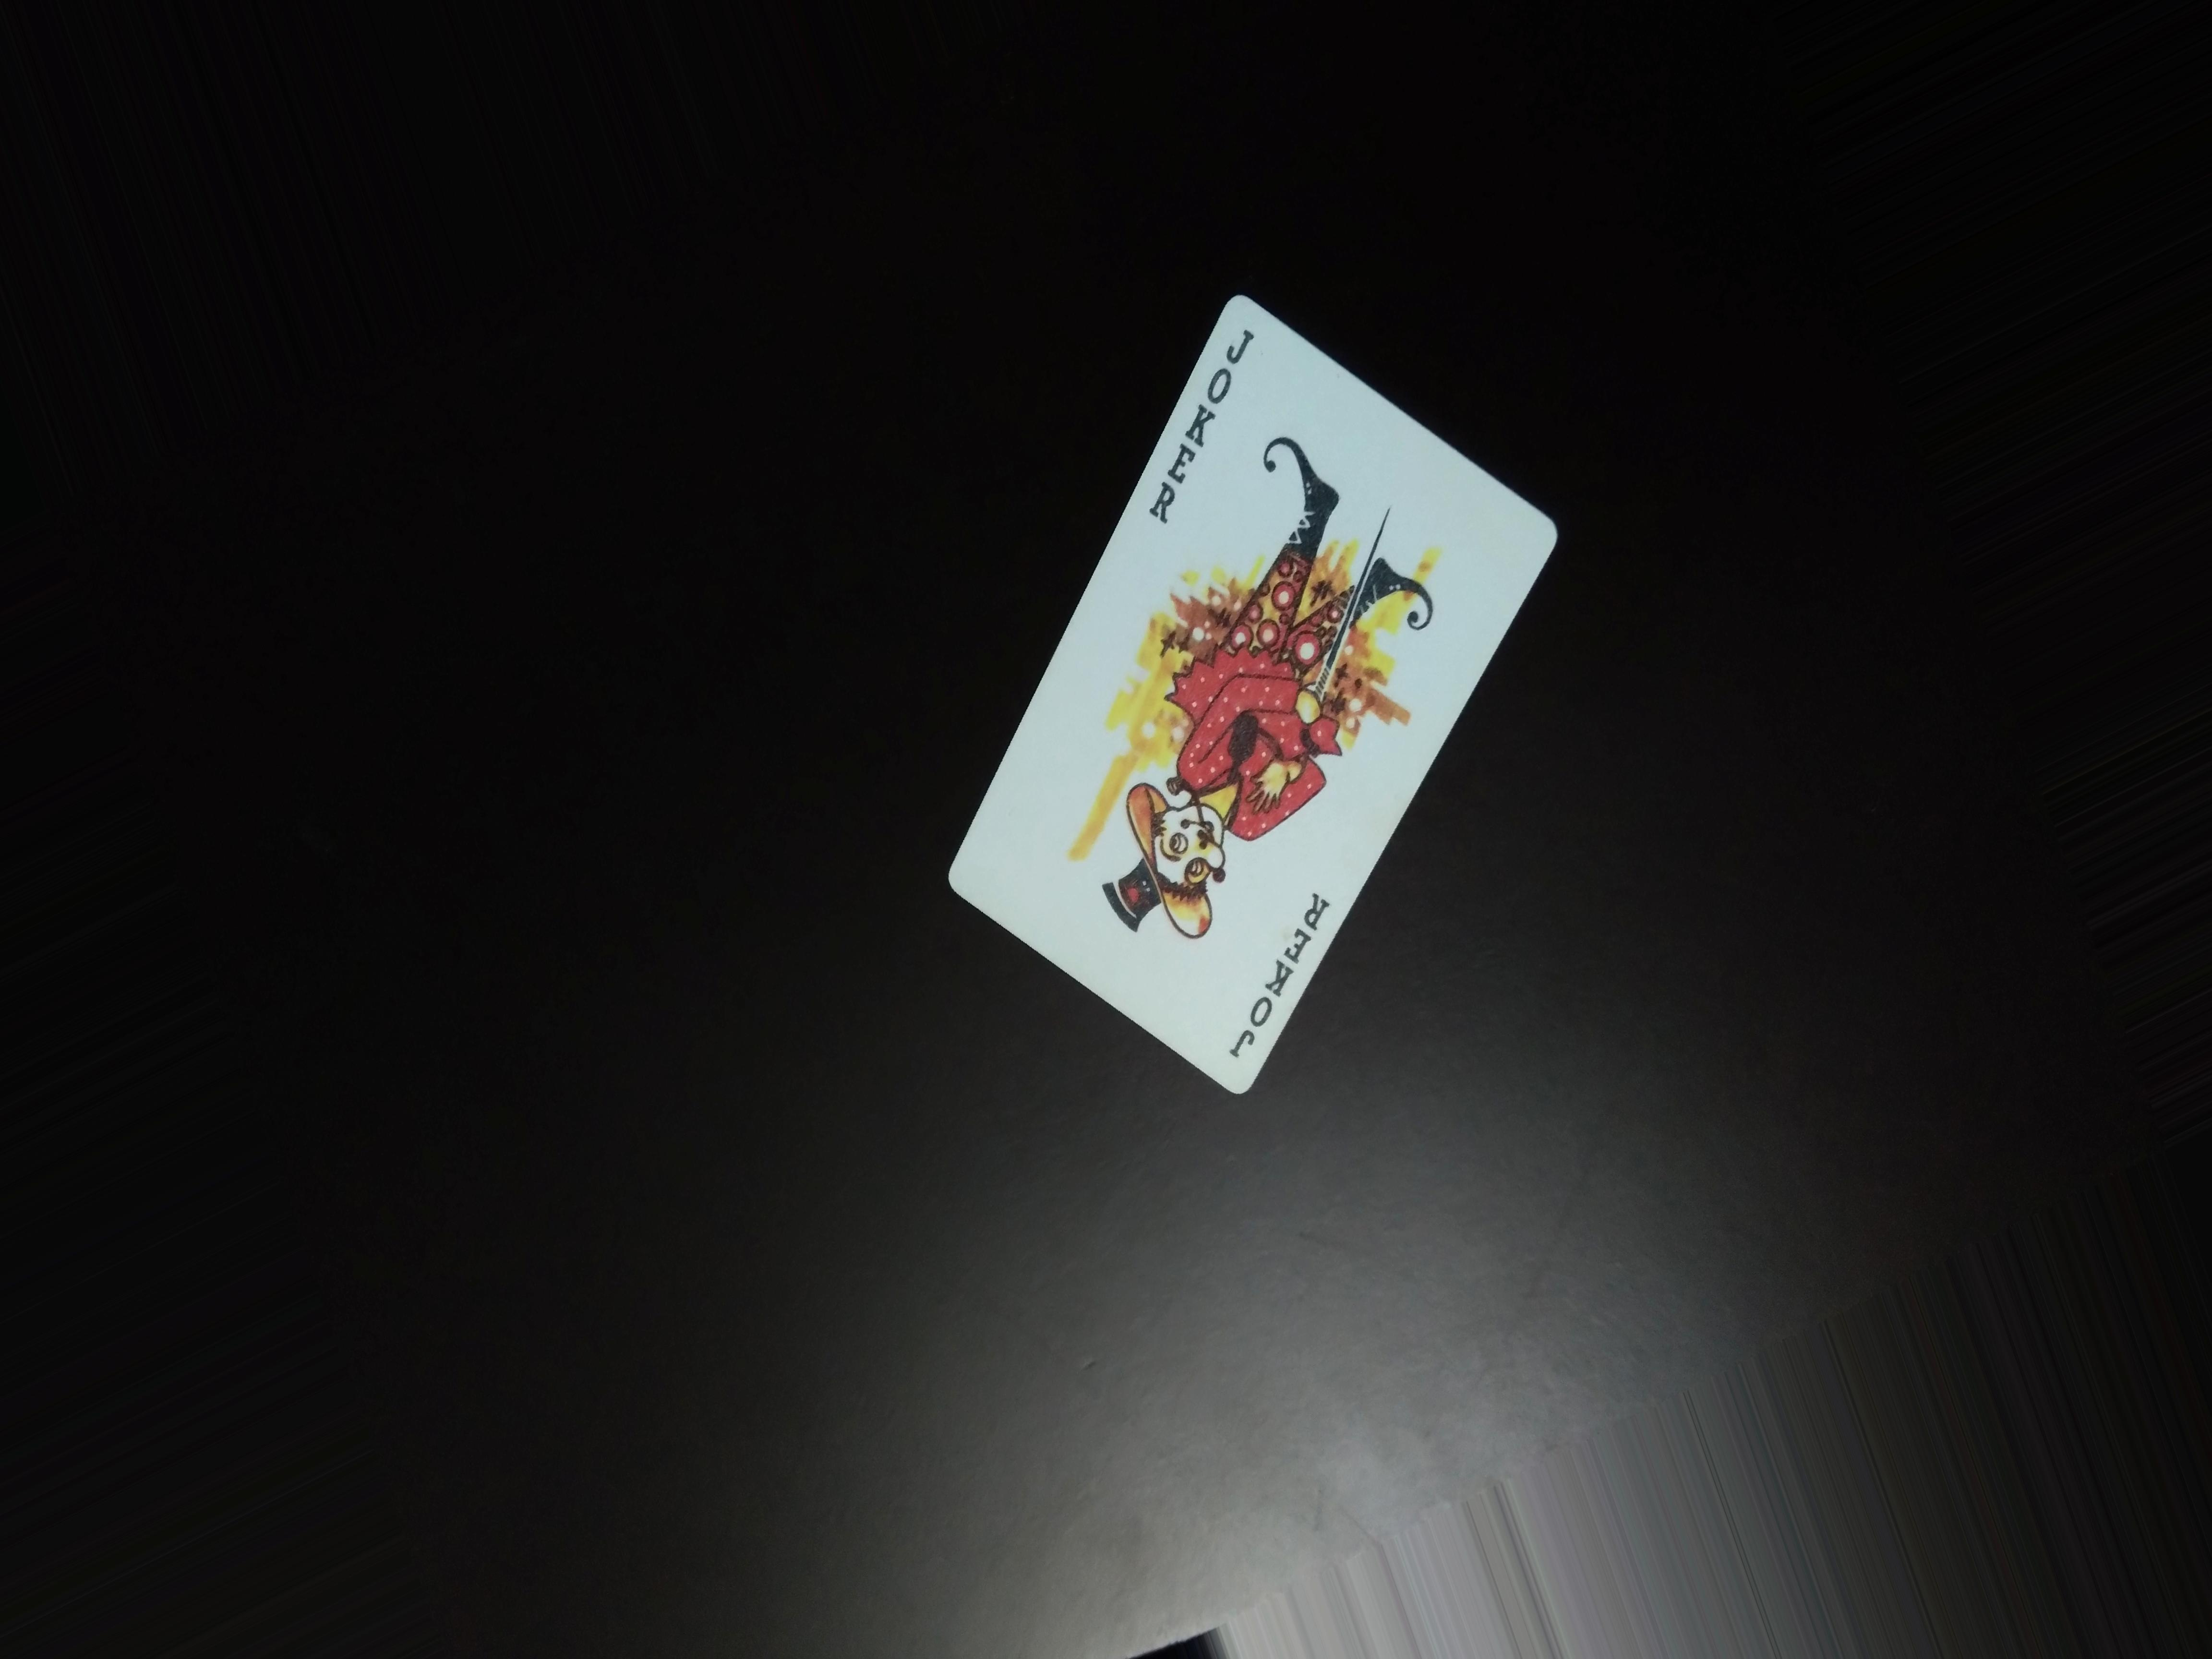JOKER: (1146, 305, 1251, 535)
